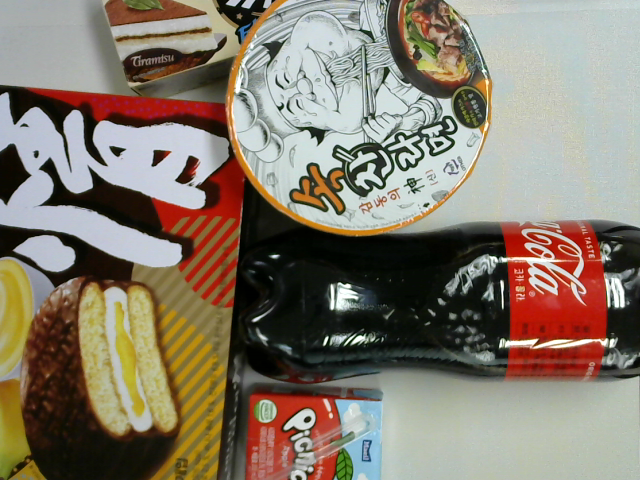Chicchok_Tiramisu: (103, 1, 301, 97)
Choco_Pie_Banana: (1, 86, 251, 478)
Coca_Cola_1.5L: (240, 222, 640, 390)
Hejangchan: (220, 1, 491, 244)
Picnic_Apple: (244, 383, 387, 480)
